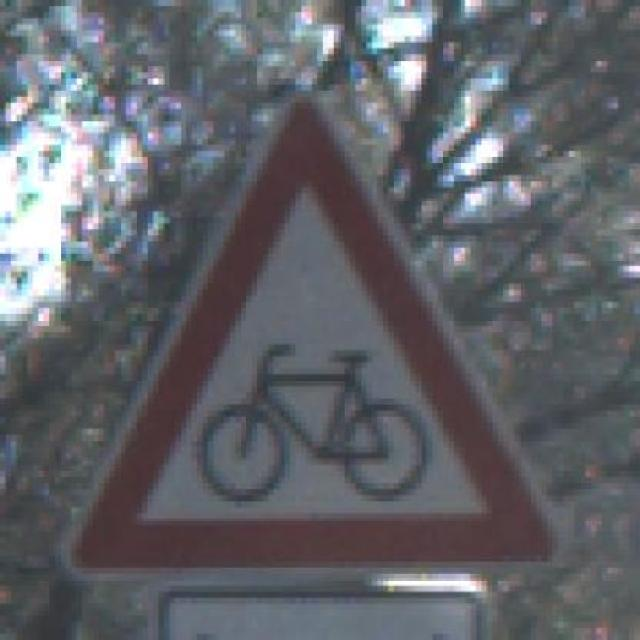CYCLE ROUTE AHEAD WARNING: (60, 72, 558, 574)
